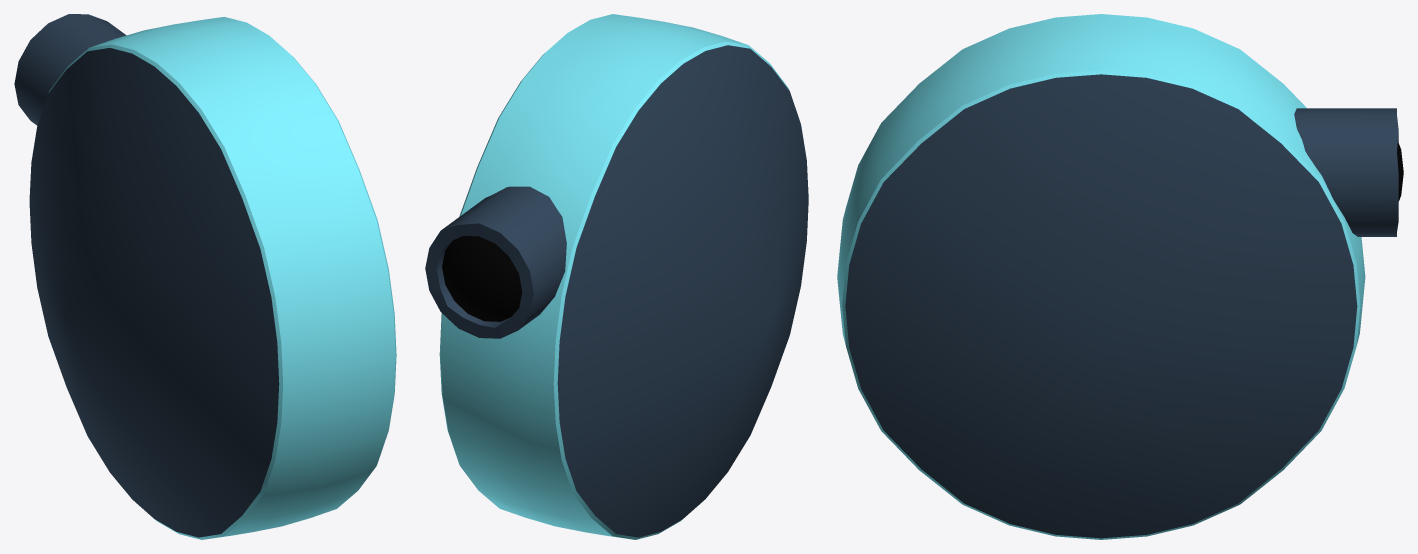
The model's file is robot_head2.glb.
3 views of the same model, side by side, from view 1: azimuth 30°, elevation 25°; view 2: azimuth 150°, elevation 25°; view 3: azimuth 270°, elevation 25° (orthographic). The views are drawn at different scales.
Visible parts, largest first — view 1: Head2; view 2: Head2; view 3: Head2.
Part boxes in pixels (bbox=[...]): Head2: bbox=[14, 14, 396, 539]; Head2: bbox=[425, 14, 808, 539]; Head2: bbox=[837, 14, 1403, 539].
Bounding box in the file's own units: 0.1331 × 0.2006 × 0.2152.
